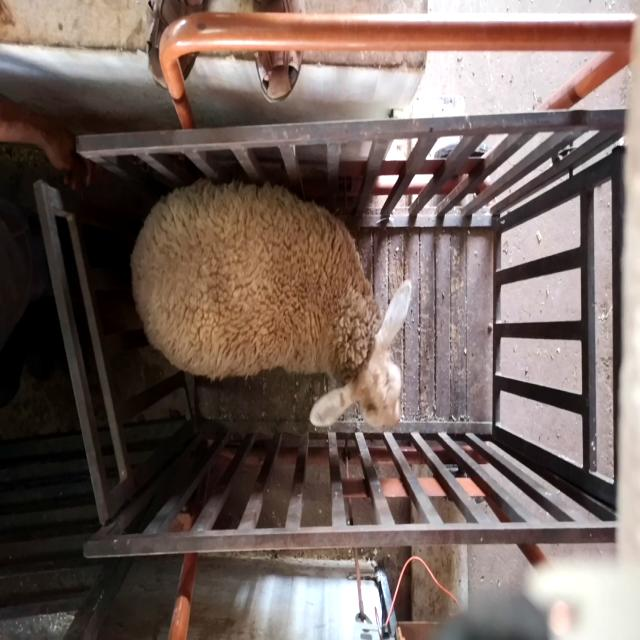sheep: (130, 180, 412, 431)
